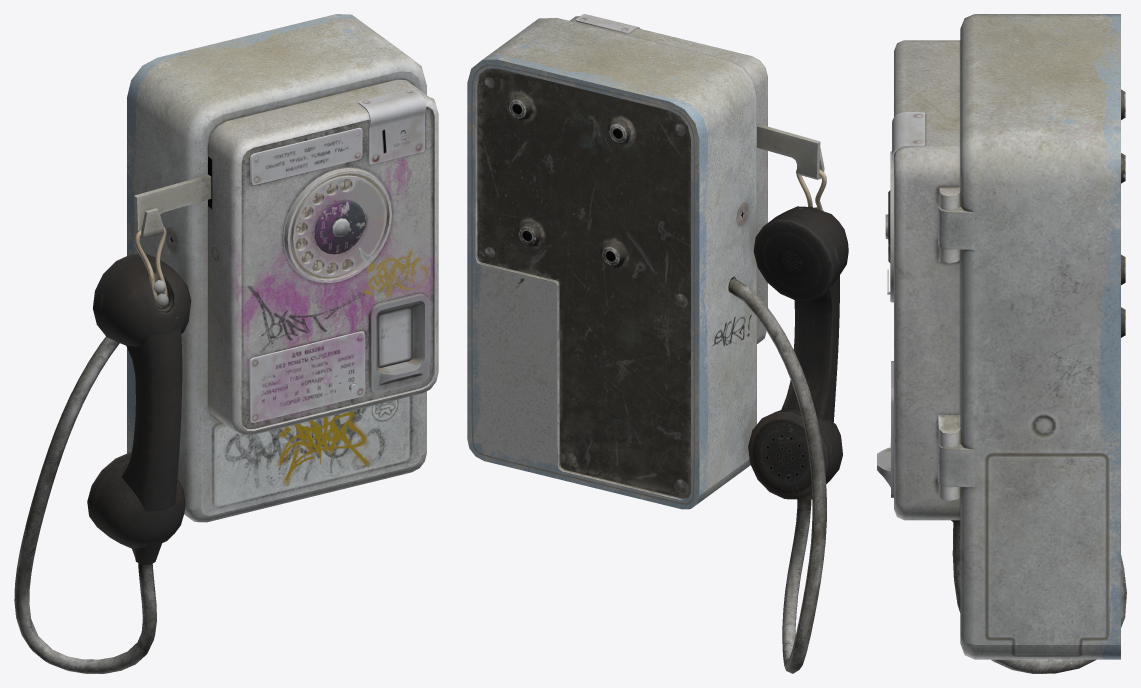
The picture shows the model from 3 angles, left to right: view 1: azimuth 30°, elevation 25°; view 2: azimuth 150°, elevation 25°; view 3: azimuth 270°, elevation 25°; orthographic projection. The views are drawn at different scales.
Parts seen in each view (by area): view 1: payphone; view 2: payphone; view 3: payphone.
Part boxes in pixels (x1,y1,x2,y2): payphone: [14, 14, 438, 673]; payphone: [467, 14, 848, 673]; payphone: [877, 14, 1126, 673].
Size of the model in its own units: 5378 by 8276 by 2617.
Materials: 1 (1 with a texture image).
